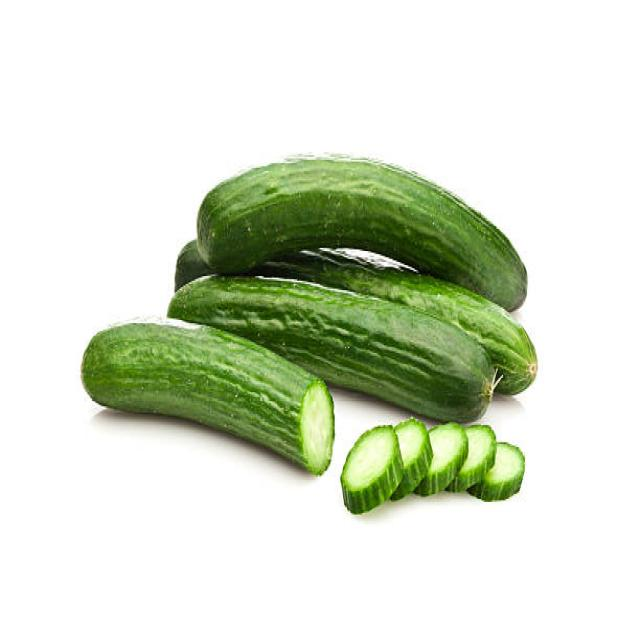cucumber: (169, 152, 536, 425), (78, 318, 336, 476)
